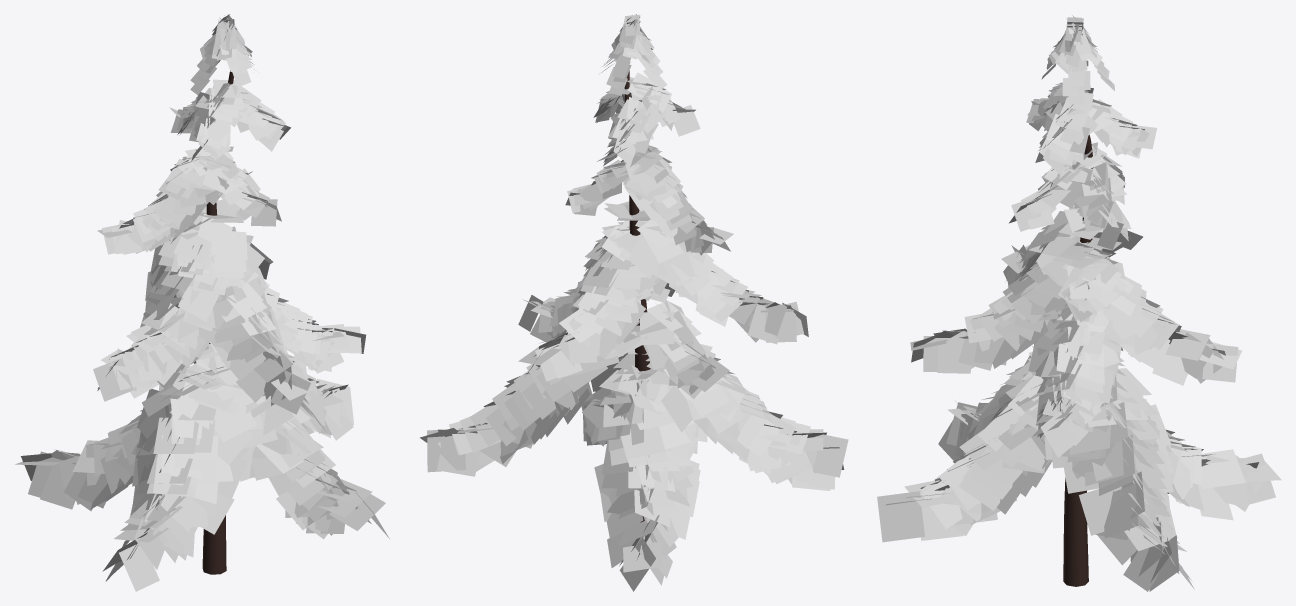
Rendered from SpruceTreeLarge1.fbx.
3 views of the same model, side by side, from view 1: azimuth 30°, elevation 25°; view 2: azimuth 150°, elevation 25°; view 3: azimuth 270°, elevation 25° (orthographic). The views are drawn at different scales.
Visible parts, largest first — view 1: SpruceTreeLarge1; view 2: SpruceTreeLarge1; view 3: SpruceTreeLarge1.
Part boxes in pixels (box(x1,y1,x2,y2)): SpruceTreeLarge1: box(15, 14, 389, 591); SpruceTreeLarge1: box(420, 14, 848, 591); SpruceTreeLarge1: box(877, 15, 1281, 591).
Size of the model in its own units: 1711 by 2612 by 1680.
